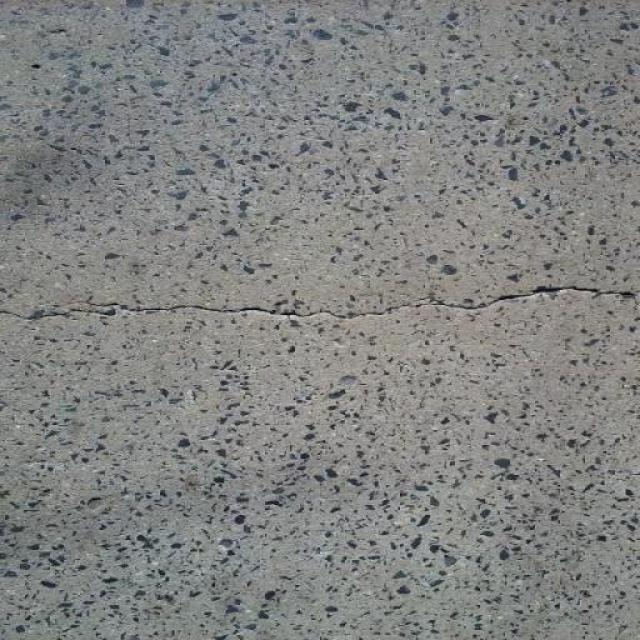Crack: (0, 274, 636, 325)
